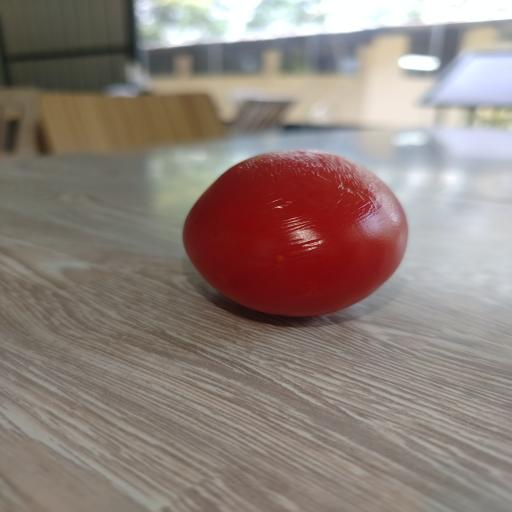spoiled: (183, 150, 407, 316)
